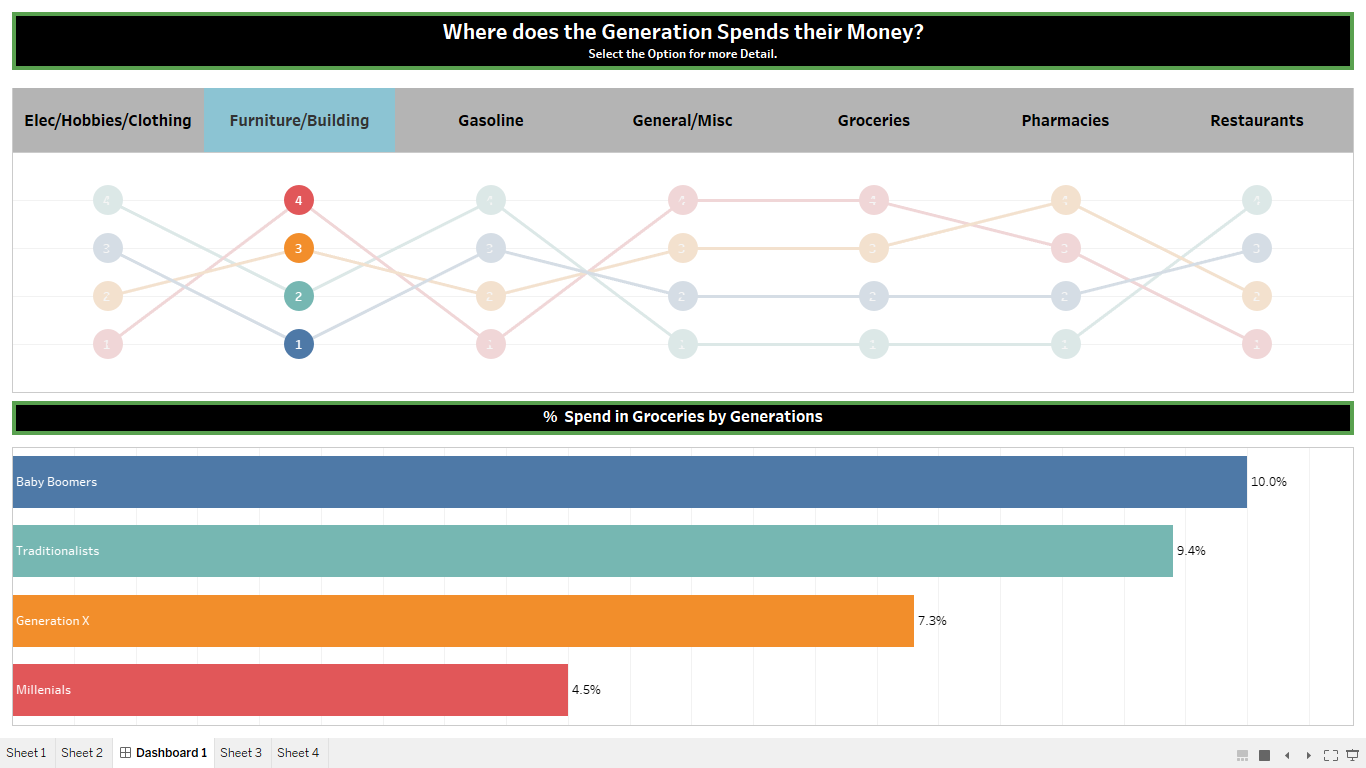

What the dashboard file says about the page in this screenshot:
{"tool":"tableau","page":{"name":"Dashboard 1","canvas":[1000,1000],"units":"permille","ordinal":0},"visuals":[{"type":"worksheet","title":"Sheet 3","mark":"Automatic","box":[6.9,13.3,986.1,102.9]},{"type":"worksheet","title":"Sheet 1","mark":"Line","cols":["Category"],"box":[6.9,116.2,986.1,421.9]},{"type":"worksheet","title":"Sheet 4","mark":"Automatic","box":[6.9,538.1,986.1,61.5]},{"type":"worksheet","title":"Sheet 2","mark":"Bar","rows":["Category","Generation"],"cols":["% of Spending","% of Spending"],"box":[6.9,599.5,986.1,387.2]}]}

Visuals, with their boxes on the dashboard's canvas, which has no fixed pixel size, in thousandths of its width and height (x1, y1, x2, y2). These are canvas units, not pixel positions in the 1366x768 screenshot, which may show the page scaled, cropped or inside an application window:
"Sheet 3" worksheet: bbox=[7, 13, 993, 116]
"Sheet 1" worksheet (Line marks): bbox=[7, 116, 993, 538]
"Sheet 4" worksheet: bbox=[7, 538, 993, 600]
"Sheet 2" worksheet (Bar marks): bbox=[7, 600, 993, 987]
